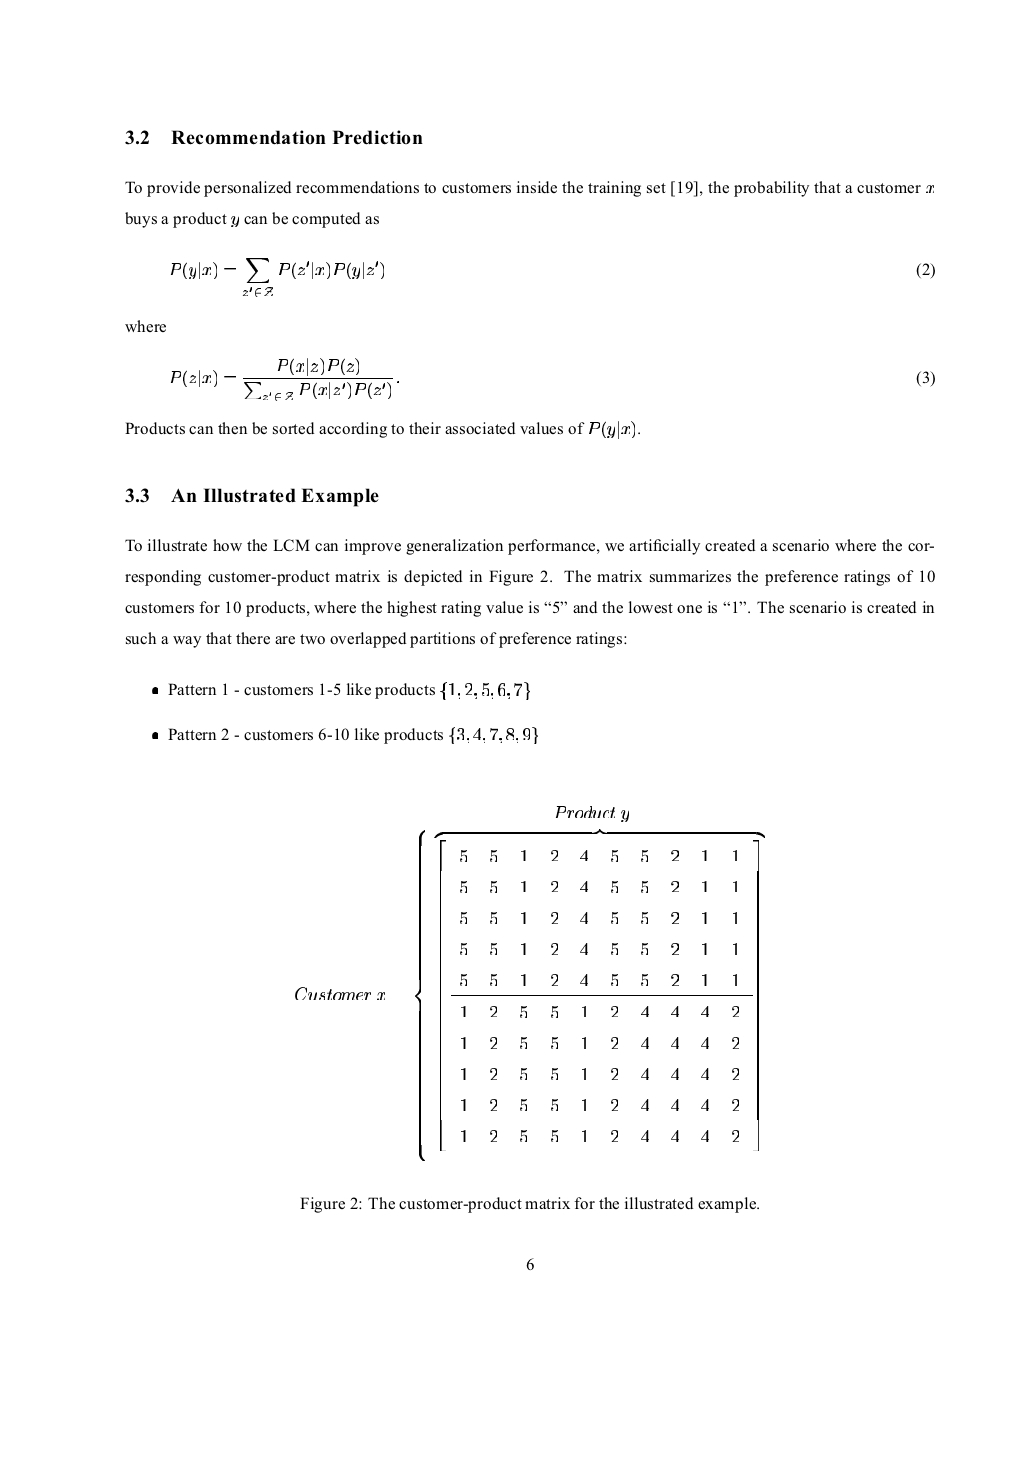figure: (295, 806, 764, 1160)
formula: (170, 357, 934, 400), (170, 258, 934, 296)
